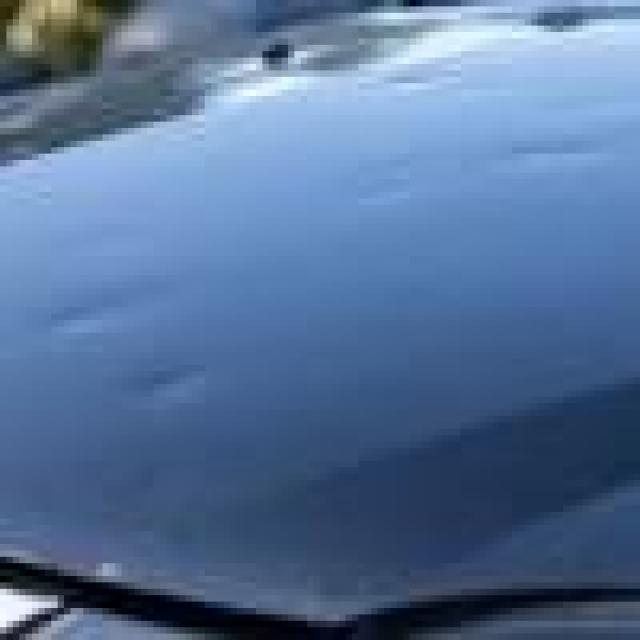minor: (40, 195, 202, 429)
